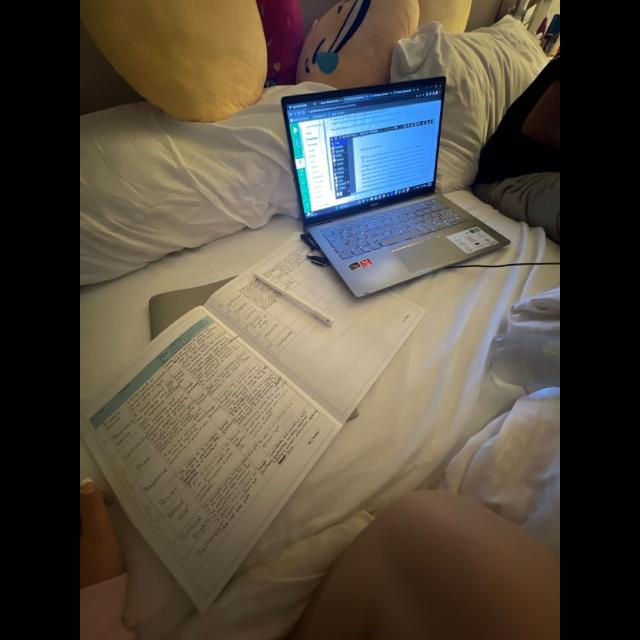laptop: (282, 76, 509, 296)
